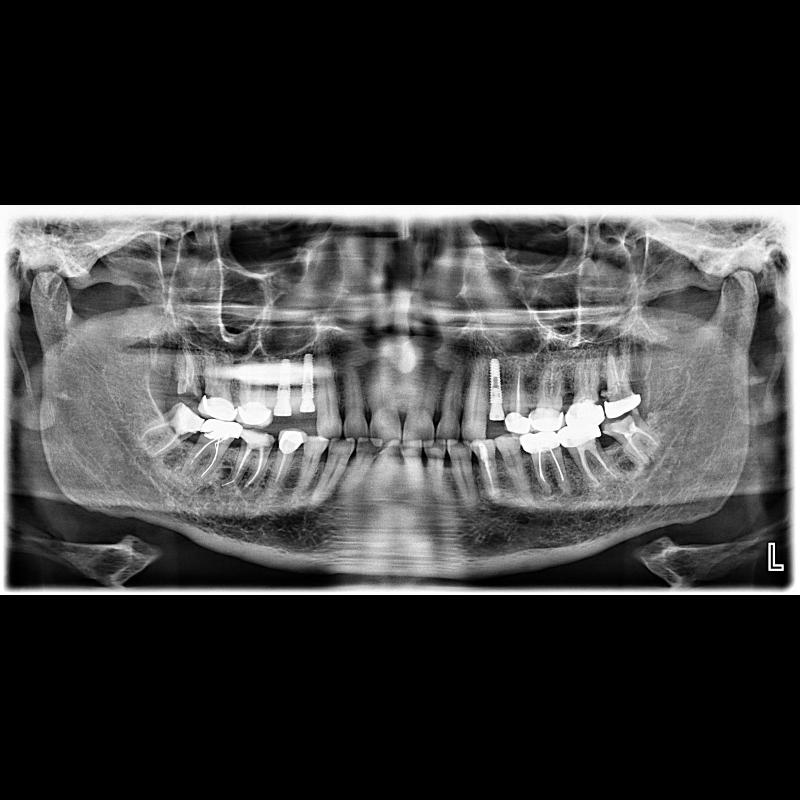osstem: (274, 356, 294, 404), (488, 360, 506, 406), (300, 352, 316, 398)
